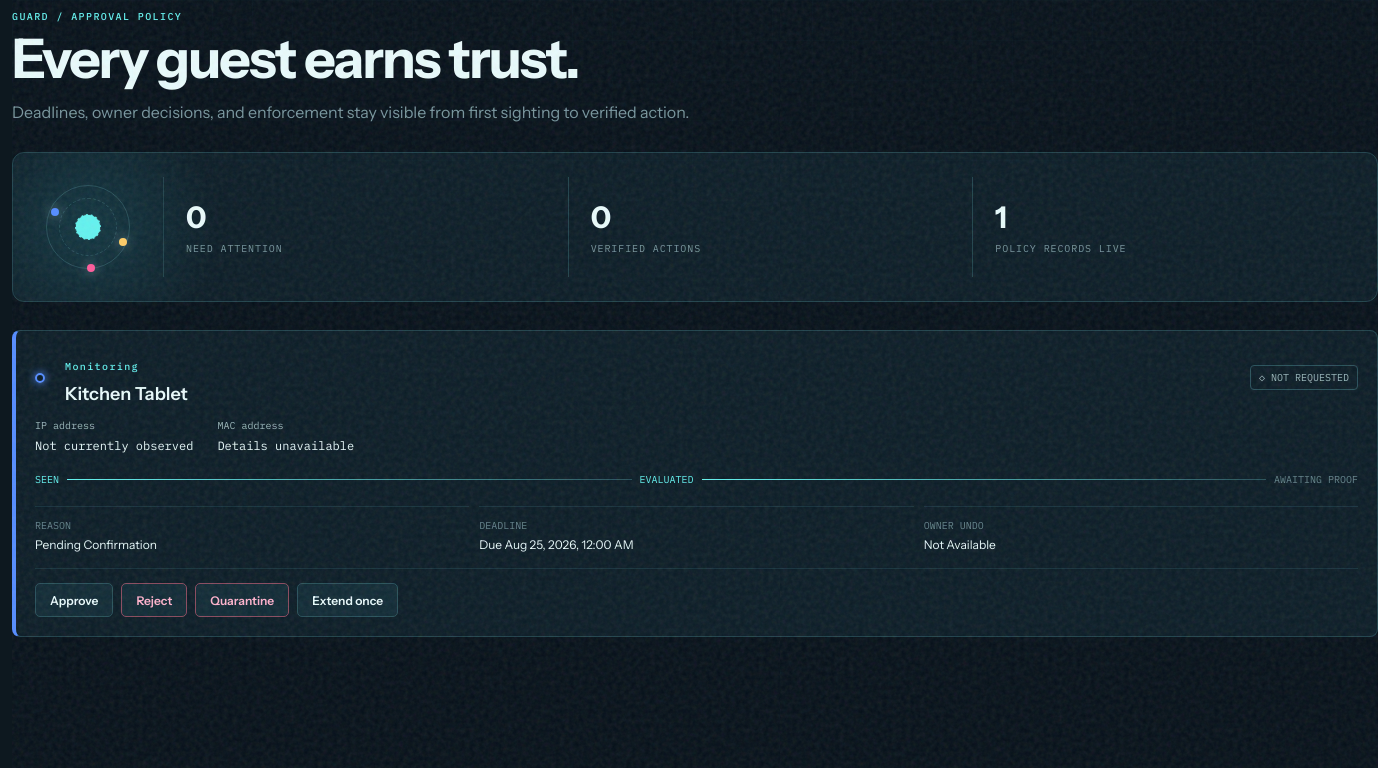
GuardView › surfaces a server rejection inline without blocking further decisions
What coordinates should you click on to do the following:
click the button with aria-label "Approve Kitchen Tablet"
I would click on:
 (74, 600)
Its box is [35,583,113,617].
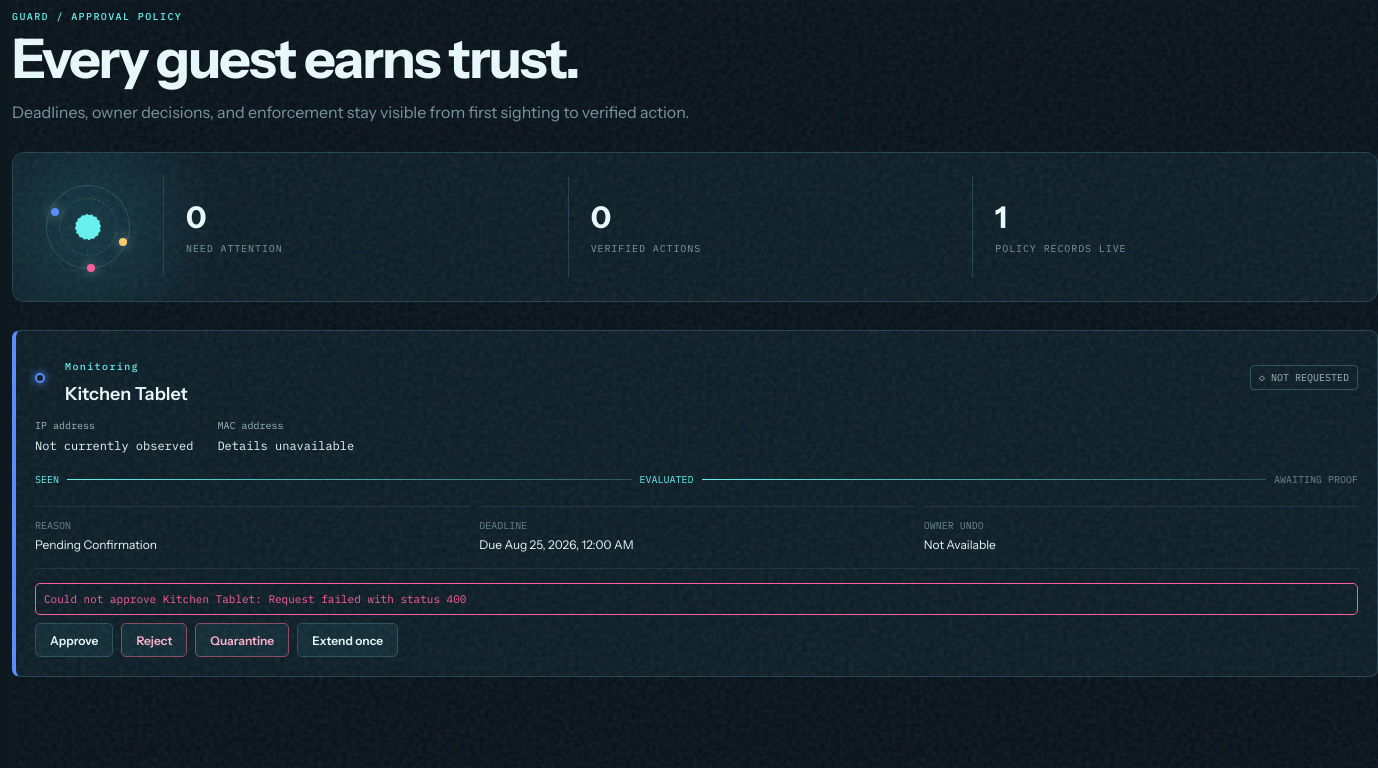
Expected: the button with aria-label "Approve Kitchen Tablet" is enabled, [35,623,113,657]
Expected: the message shows "Request failed with status 400", [44,592,466,606]
Expected: the message shows "Kitchen Tablet", [44,592,466,606]
